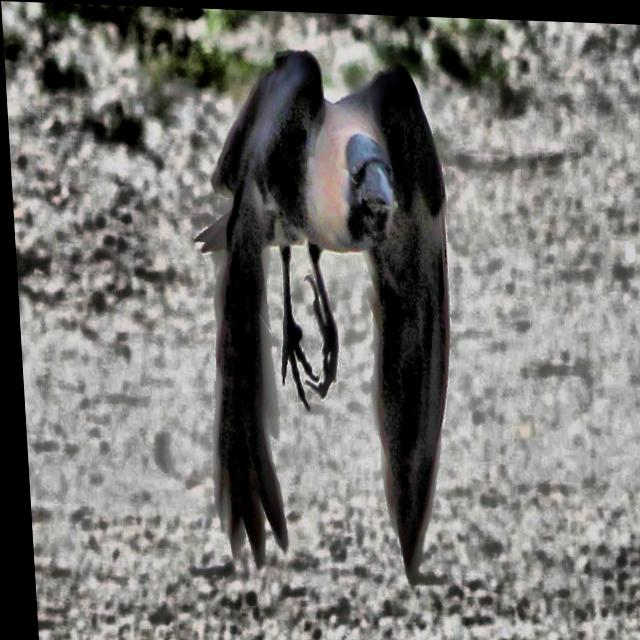crow: (182, 33, 503, 586)
